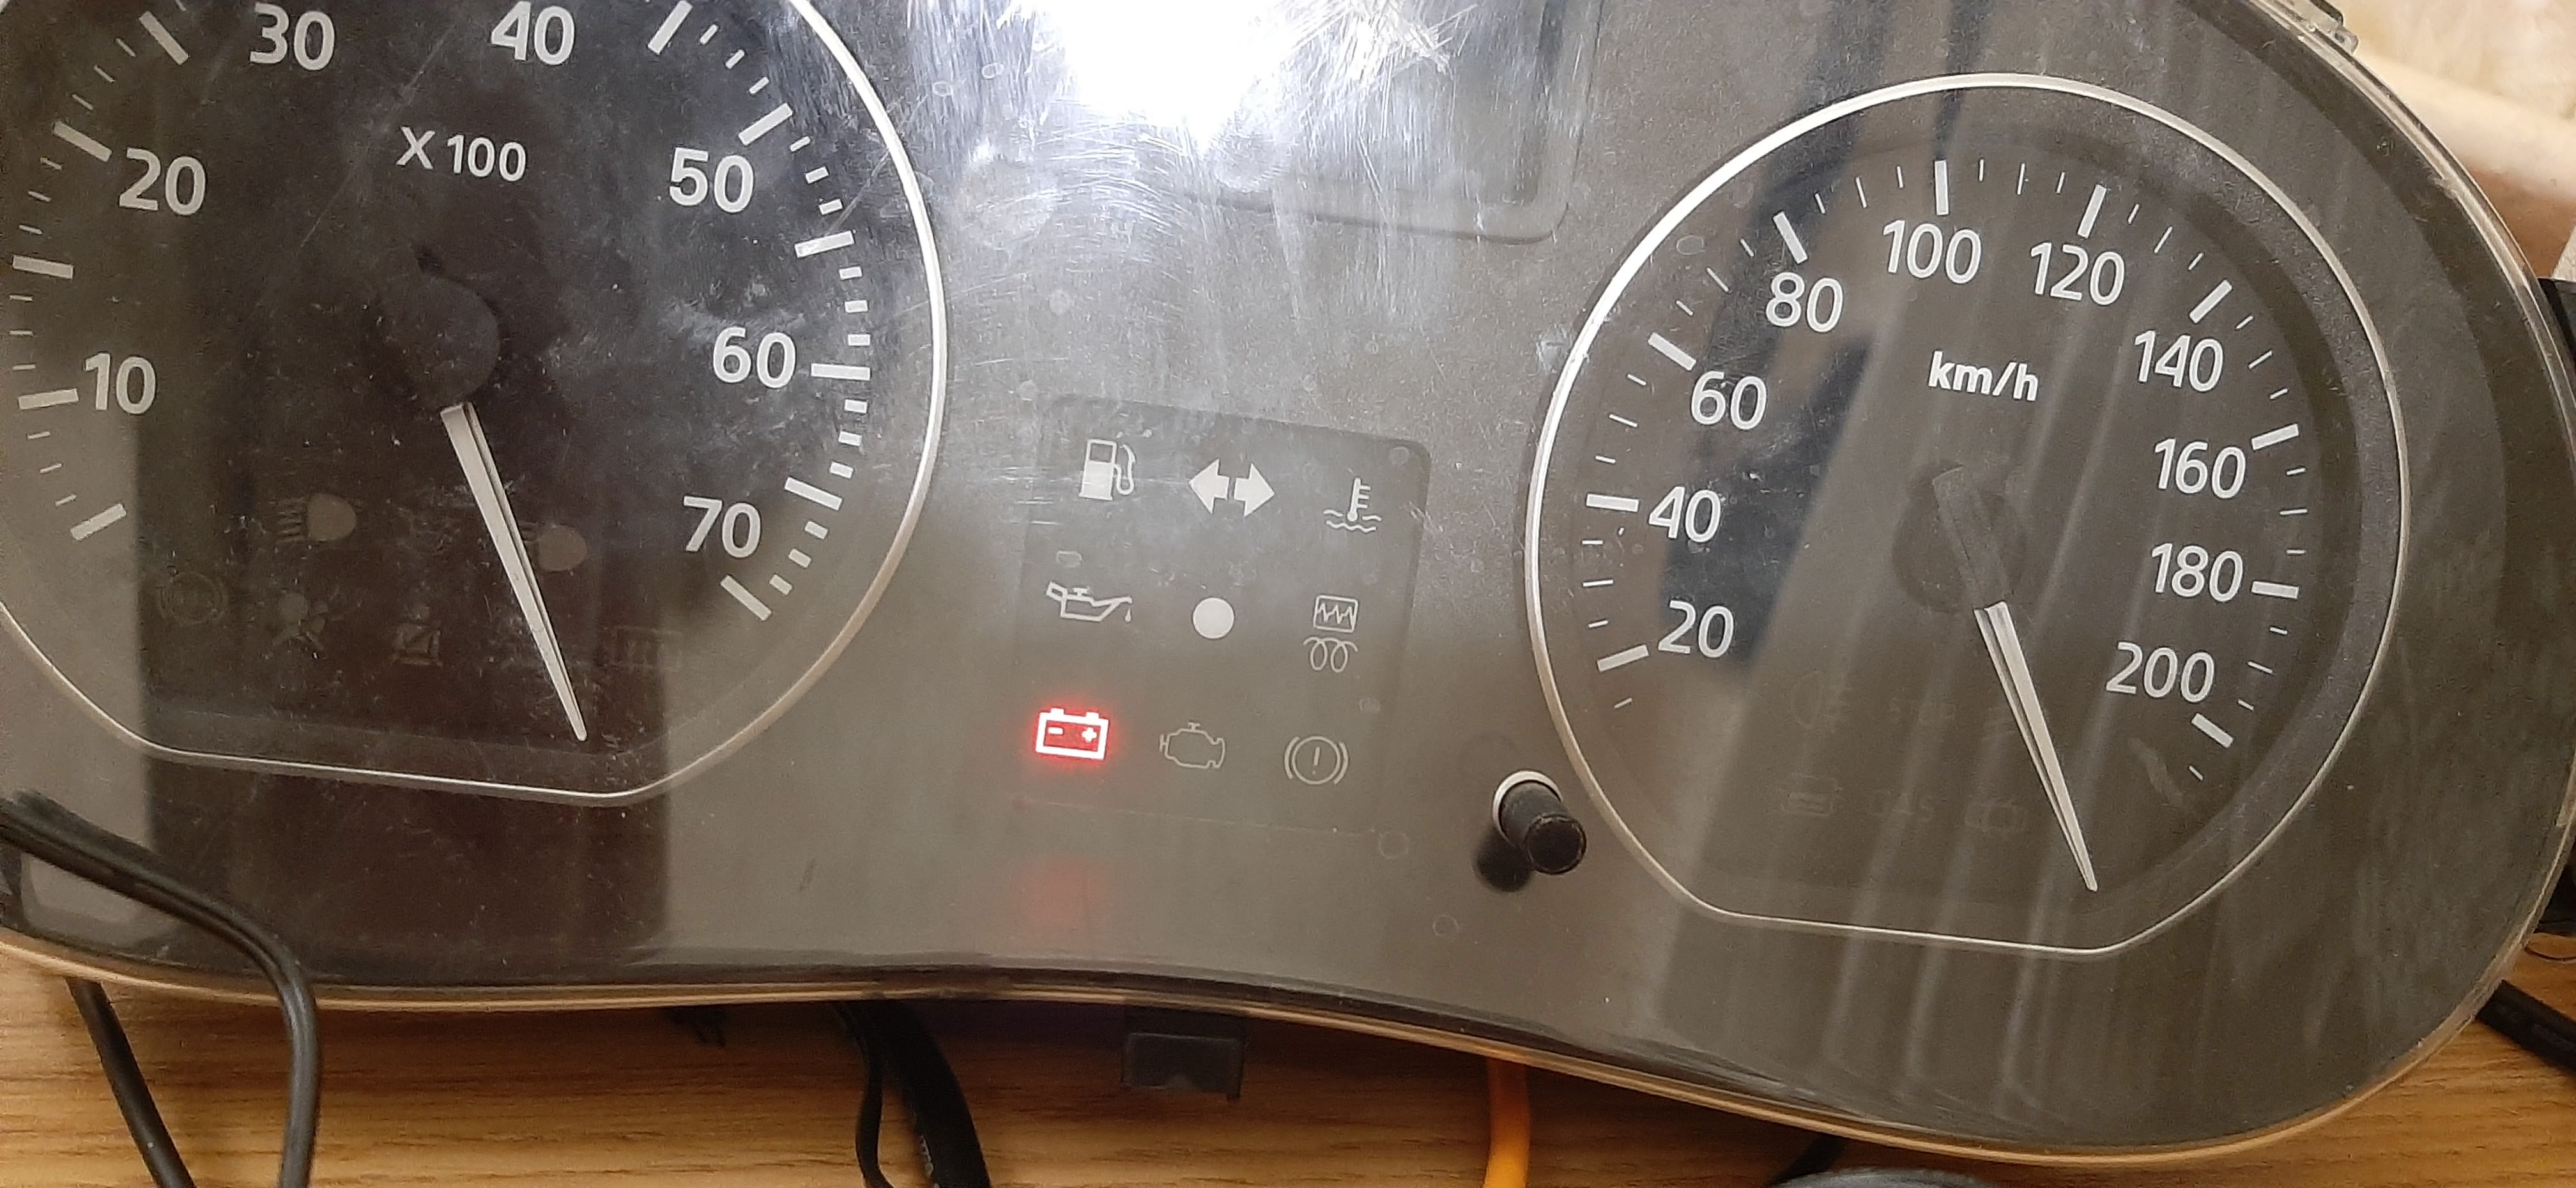accomulator14: (1025, 703, 1119, 761)
